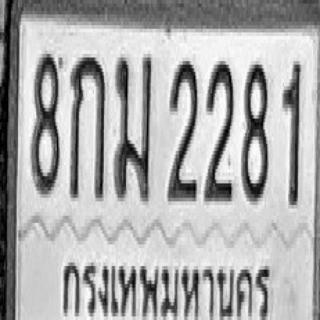A01: (69, 54, 105, 198)
A33: (114, 52, 152, 200)
N01: (282, 58, 300, 205)
N02: (167, 56, 198, 200), (204, 56, 234, 200)
N08: (30, 49, 60, 192), (242, 59, 268, 200)
P04: (58, 241, 276, 320)
